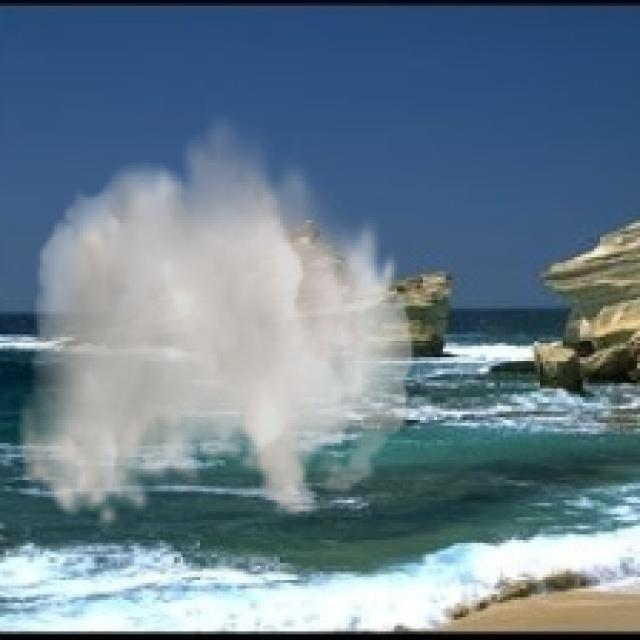Smoke: (17, 109, 414, 528)
